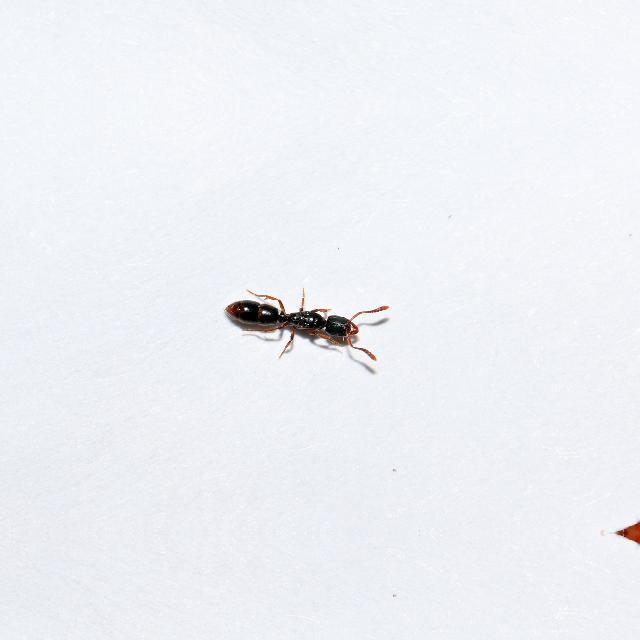Ponera: (220, 280, 374, 366)
